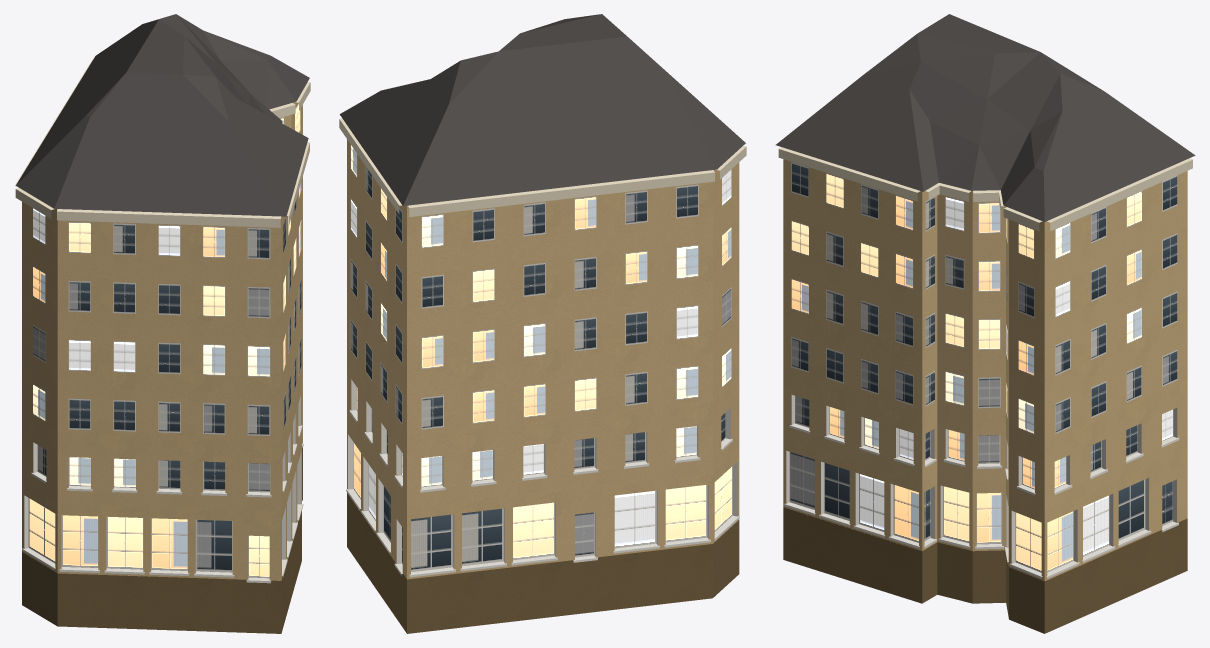
3 renders of one model, left to right at view 1: azimuth 30°, elevation 25°; view 2: azimuth 150°, elevation 25°; view 3: azimuth 270°, elevation 25°, orthographic. The views are drawn at different scales.
Parts seen in each view (by area): view 1: z3c_zy_ne; view 2: z3c_zy_ne; view 3: z3c_zy_ne.
Part boxes in pixels (x1,y1,x2,y2): z3c_zy_ne: (15, 14, 310, 633); z3c_zy_ne: (339, 14, 746, 633); z3c_zy_ne: (775, 14, 1195, 633).
Bounding box in the file's own units: 19.69 × 29.26 × 21.79.
3 materials, 3 textured.
